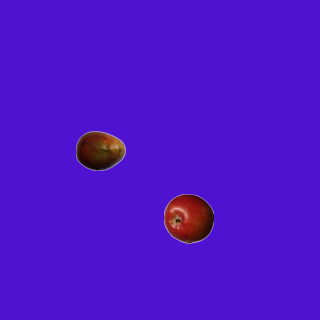Apple Braeburn: (163, 193, 213, 243)
Mango Red: (75, 125, 125, 175)
